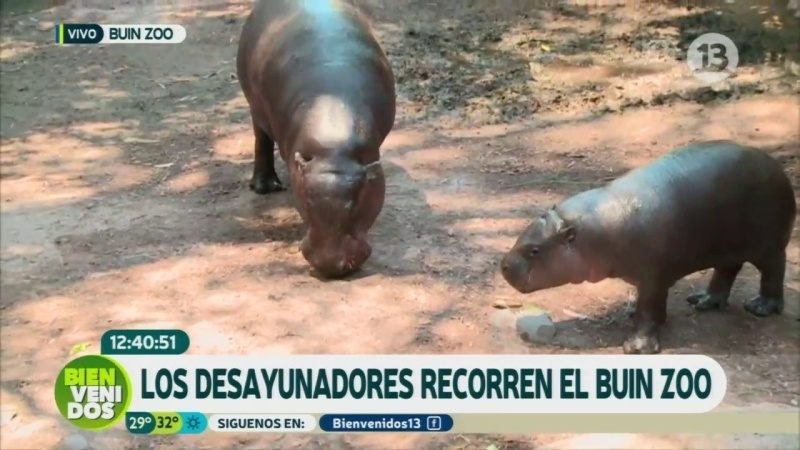hipopotamo: (487, 124, 799, 357), (225, 1, 413, 295)
